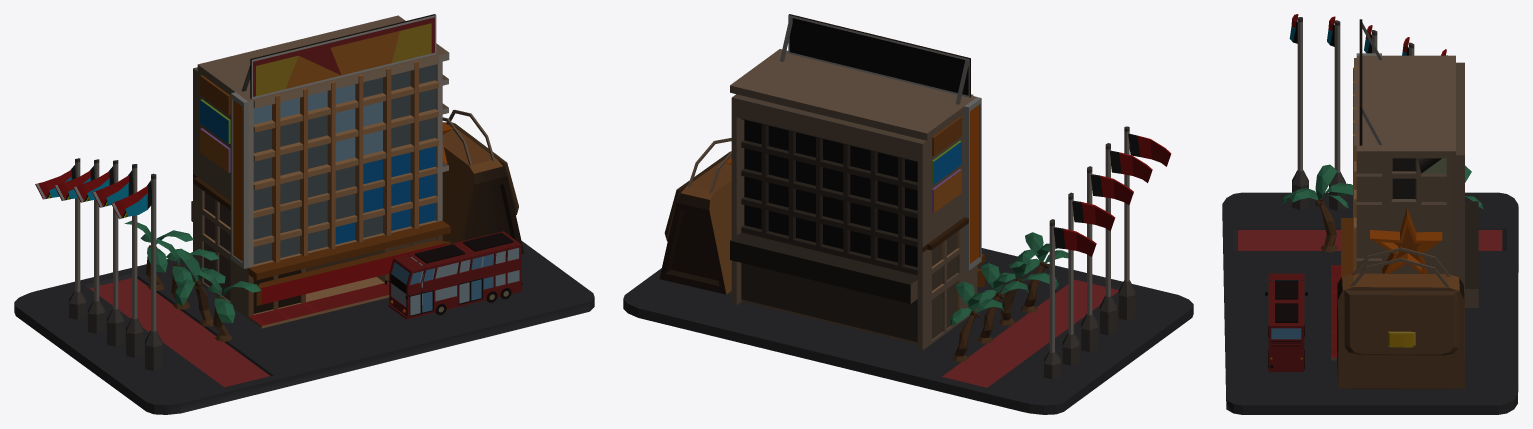
3 renders of one model, left to right at view 1: azimuth 30°, elevation 25°; view 2: azimuth 150°, elevation 25°; view 3: azimuth 270°, elevation 25°, orthographic. The views are drawn at different scales.
Visible parts, largest first — view 1: Plane.005; view 2: Plane.005; view 3: Plane.005.
Boxes of the visible parts, x1,y1,x2,y2 form: Plane.005: (14,14,594,414); Plane.005: (623,14,1193,414); Plane.005: (1222,14,1518,414).
Bounding box in the file's own units: 3 × 1.69 × 1.74.
Materials: 1 (1 with a texture image).
